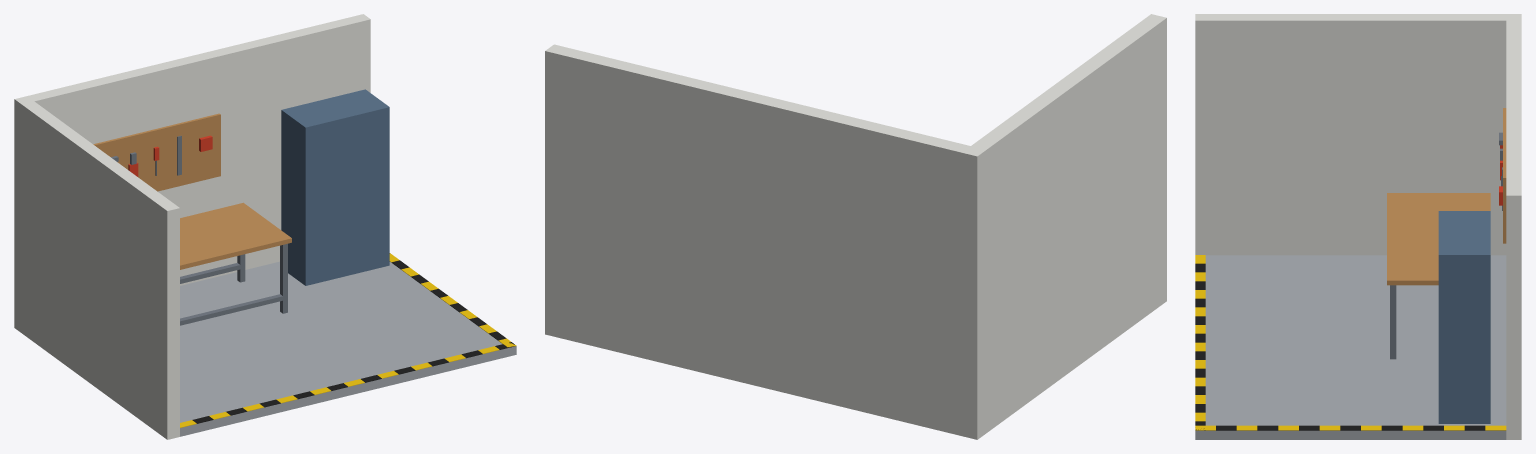
The model's file is taller_1er_ano_tecnica.obj.
3 views of the same model, side by side, from view 1: azimuth 30°, elevation 25°; view 2: azimuth 150°, elevation 25°; view 3: azimuth 270°, elevation 25° (orthographic). The views are drawn at different scales.
Parts seen in each view (by area): view 1: Pared_Lateral, Piso_4x3m, Pared_Fondo, Armario_1x05m, Tablero_Herramientas, Mesa_Tapa, Mesa_Estructura, Cinta_Amarilla, Cinta_Negra; view 2: Pared_Fondo, Pared_Lateral; view 3: Pared_Lateral, Piso_4x3m, Armario_1x05m, Pared_Fondo, Mesa_Tapa, Cinta_Amarilla, Cinta_Negra, Tablero_Herramientas, Mesa_Estructura.
Boxes of the visible parts, box(x1,y1,x2,y2) form: Pared_Lateral: box(21, 101, 179, 439); Piso_4x3m: box(180, 261, 516, 436); Pared_Fondo: box(14, 14, 370, 332); Armario_1x05m: box(281, 89, 389, 285); Tablero_Herramientas: box(93, 113, 220, 191); Mesa_Tapa: box(180, 202, 291, 269); Mesa_Estructura: box(180, 243, 287, 325); Cinta_Amarilla: box(180, 253, 516, 427); Cinta_Negra: box(192, 260, 514, 423); Pared_Fondo: box(545, 44, 986, 439); Pared_Lateral: box(971, 14, 1166, 432); Pared_Lateral: box(1195, 14, 1506, 255); Piso_4x3m: box(1195, 255, 1506, 439); Armario_1x05m: box(1438, 211, 1490, 423); Pared_Fondo: box(1506, 14, 1521, 439); Mesa_Tapa: box(1387, 193, 1490, 285); Cinta_Amarilla: box(1195, 255, 1506, 430); Cinta_Negra: box(1195, 263, 1485, 430); Tablero_Herramientas: box(1503, 108, 1506, 243); Mesa_Estructura: box(1390, 285, 1396, 359).
Size of the model in its own units: 4.15 by 2.6 by 3.15.
